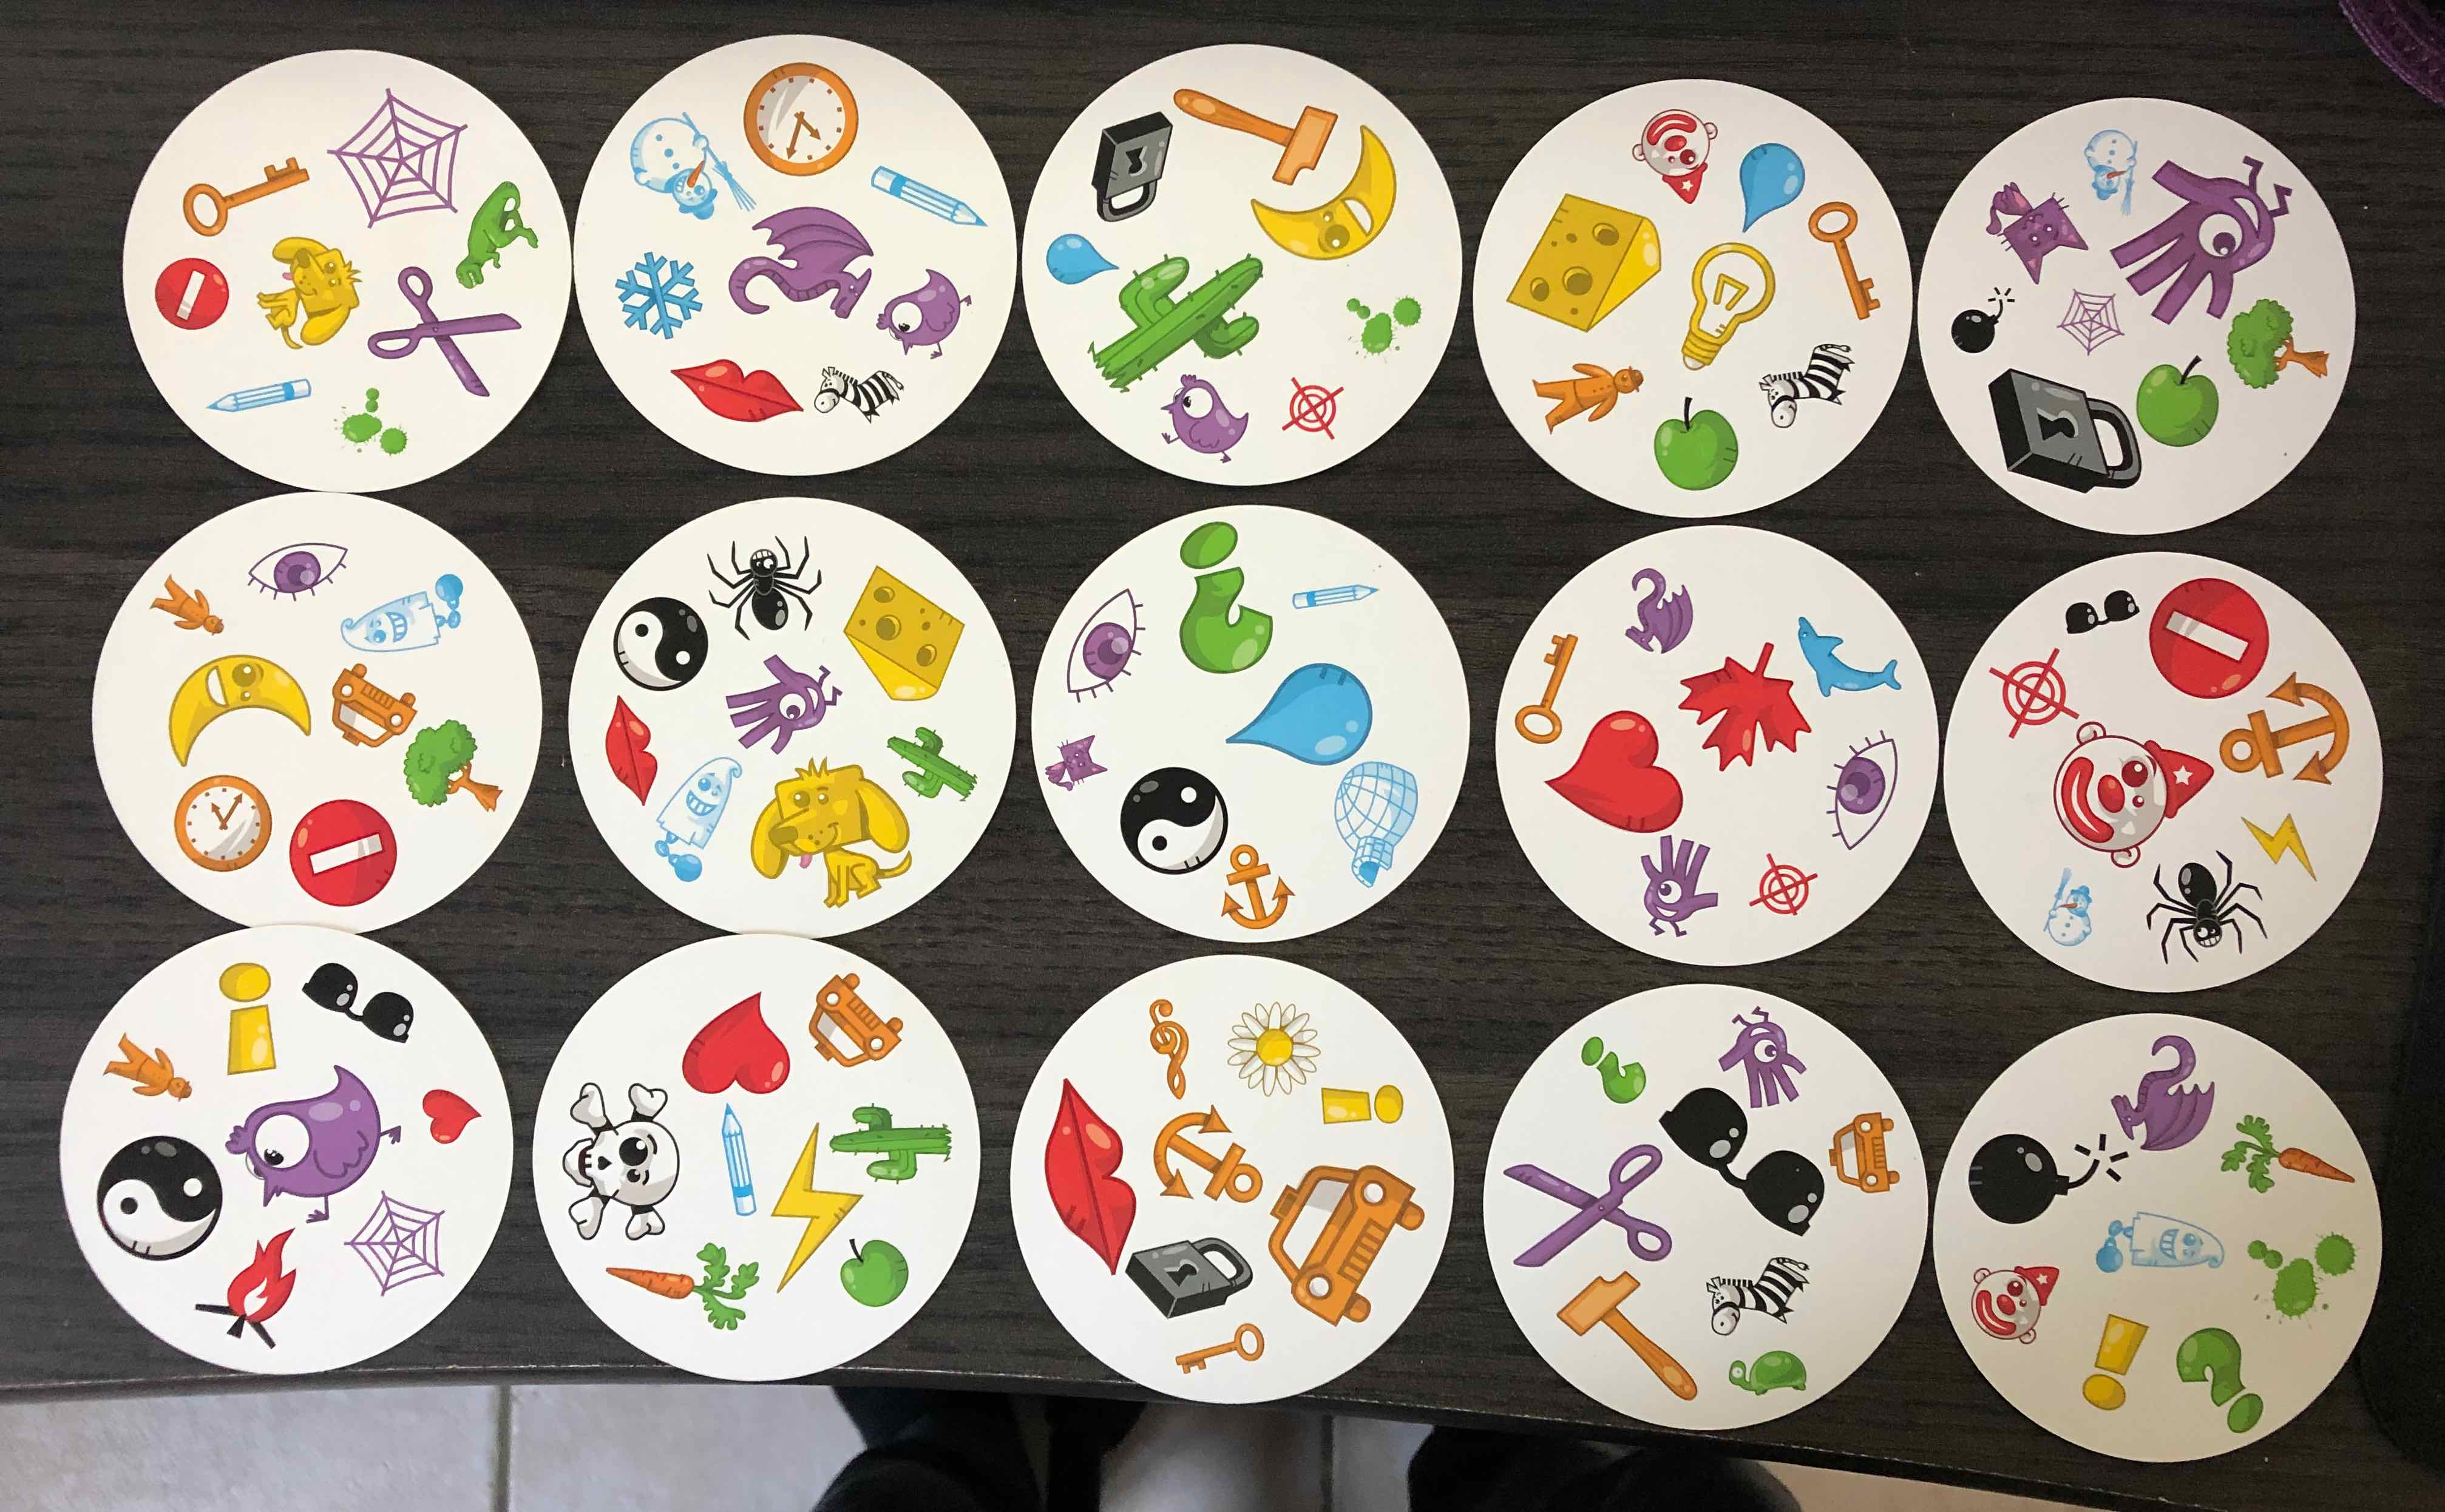ampoule: (1673, 239, 1778, 372)
ancre: (2214, 669, 2358, 786), (1153, 1100, 1264, 1212), (1217, 840, 1298, 931)
araignee: (699, 531, 823, 639), (2145, 859, 2272, 964)
arbre: (2220, 293, 2333, 393), (405, 716, 512, 817)
bombe: (1946, 285, 2014, 354)
bonhomme: (1532, 351, 1652, 435), (94, 1032, 197, 1107), (150, 569, 231, 643)
bonhomme_neige: (627, 112, 761, 222), (2077, 126, 2141, 215), (2035, 869, 2099, 950)
bouche: (1041, 1072, 1140, 1280), (669, 356, 809, 424), (601, 690, 658, 814)
cactus: (1083, 250, 1261, 391), (828, 1102, 954, 1184), (884, 728, 980, 807)
cadenas: (1986, 367, 2141, 496), (1132, 1240, 1257, 1320), (1092, 108, 1174, 229)
carotte: (606, 1238, 768, 1332), (2218, 1107, 2356, 1201)
chat: (1972, 175, 2089, 286), (1046, 733, 1105, 794)
chien: (747, 758, 913, 908), (257, 232, 358, 356)
cible: (1980, 643, 2080, 744), (1746, 847, 1820, 922), (1280, 372, 1345, 445)
ciseau: (365, 260, 517, 402), (1500, 1152, 1675, 1269)
cle: (178, 154, 330, 241), (1806, 199, 1884, 326), (1518, 634, 1584, 744), (1174, 1320, 1263, 1376)
clown: (2052, 718, 2211, 869), (1629, 98, 1718, 208), (1972, 1252, 2064, 1350)
coeur: (1546, 711, 1684, 843), (679, 988, 789, 1100), (421, 1082, 486, 1158)
crayon: (868, 157, 987, 237), (709, 1100, 761, 1224), (201, 372, 314, 423), (1289, 578, 1383, 615)
dauphin: (1799, 611, 1905, 700)
dinosore: (449, 176, 540, 293)
dooble: (2108, 147, 2291, 328), (1691, 1004, 1815, 1107), (728, 649, 851, 751), (1640, 829, 1720, 938)
dragon: (725, 199, 877, 326), (2104, 1028, 2216, 1158), (1617, 564, 1692, 662)
eclair: (770, 1119, 857, 1296), (2242, 807, 2319, 885)
fantome: (1963, 1133, 2131, 1229), (643, 744, 756, 885), (339, 564, 468, 662), (2097, 1212, 2223, 1287)
feu: (194, 1220, 307, 1350)
feuille: (1684, 639, 1815, 772), (1680, 639, 1809, 772)
fleur: (1224, 1000, 1324, 1105)
flocon: (606, 246, 720, 342)
fromage: (1498, 194, 1668, 333), (840, 564, 964, 707)
goutte: (1222, 660, 1371, 766), (1736, 136, 1809, 237), (1036, 225, 1123, 293)
horloge: (739, 58, 857, 180), (169, 773, 269, 875)
igloo: (1336, 753, 1416, 890)
lune: (1250, 120, 1402, 264), (166, 651, 309, 772)
lunette: (1657, 1079, 1827, 1240), (297, 953, 430, 1049), (2063, 587, 2138, 643)
marteau: (1549, 1269, 1703, 1405), (1168, 84, 1336, 187)
note: (1139, 993, 1200, 1105)
oeuil: (1065, 583, 1151, 704), (1816, 730, 1900, 852), (239, 538, 358, 602)
oiseau: (224, 1062, 410, 1224), (873, 267, 975, 363), (1156, 368, 1252, 464)
point_exclamation: (213, 959, 281, 1074), (2082, 1309, 2150, 1418), (1306, 1077, 1404, 1135)
point_interrogation: (1168, 519, 1273, 677), (2176, 1327, 2267, 1440), (1574, 1028, 1645, 1107)
pomme: (2131, 349, 2221, 452), (1650, 391, 1741, 492), (833, 1229, 908, 1309)
sens_interdit: (2146, 576, 2284, 697), (276, 801, 398, 910), (155, 257, 241, 333)
tache: (2244, 1229, 2363, 1325), (327, 379, 416, 461), (1345, 283, 1427, 363)
tete_mort: (533, 1081, 693, 1245)
toile: (330, 84, 468, 227), (342, 1191, 449, 1292), (2057, 278, 2125, 356)
tortue: (1729, 1344, 1815, 1409)
voiture: (1264, 1161, 1425, 1327), (810, 966, 908, 1070), (327, 660, 421, 751), (1830, 1110, 1902, 1196)
ying_yang: (100, 1133, 224, 1264), (1116, 761, 1228, 880), (613, 588, 709, 697)
zebre: (1710, 1252, 1816, 1341), (1759, 333, 1856, 426), (816, 363, 906, 426)
